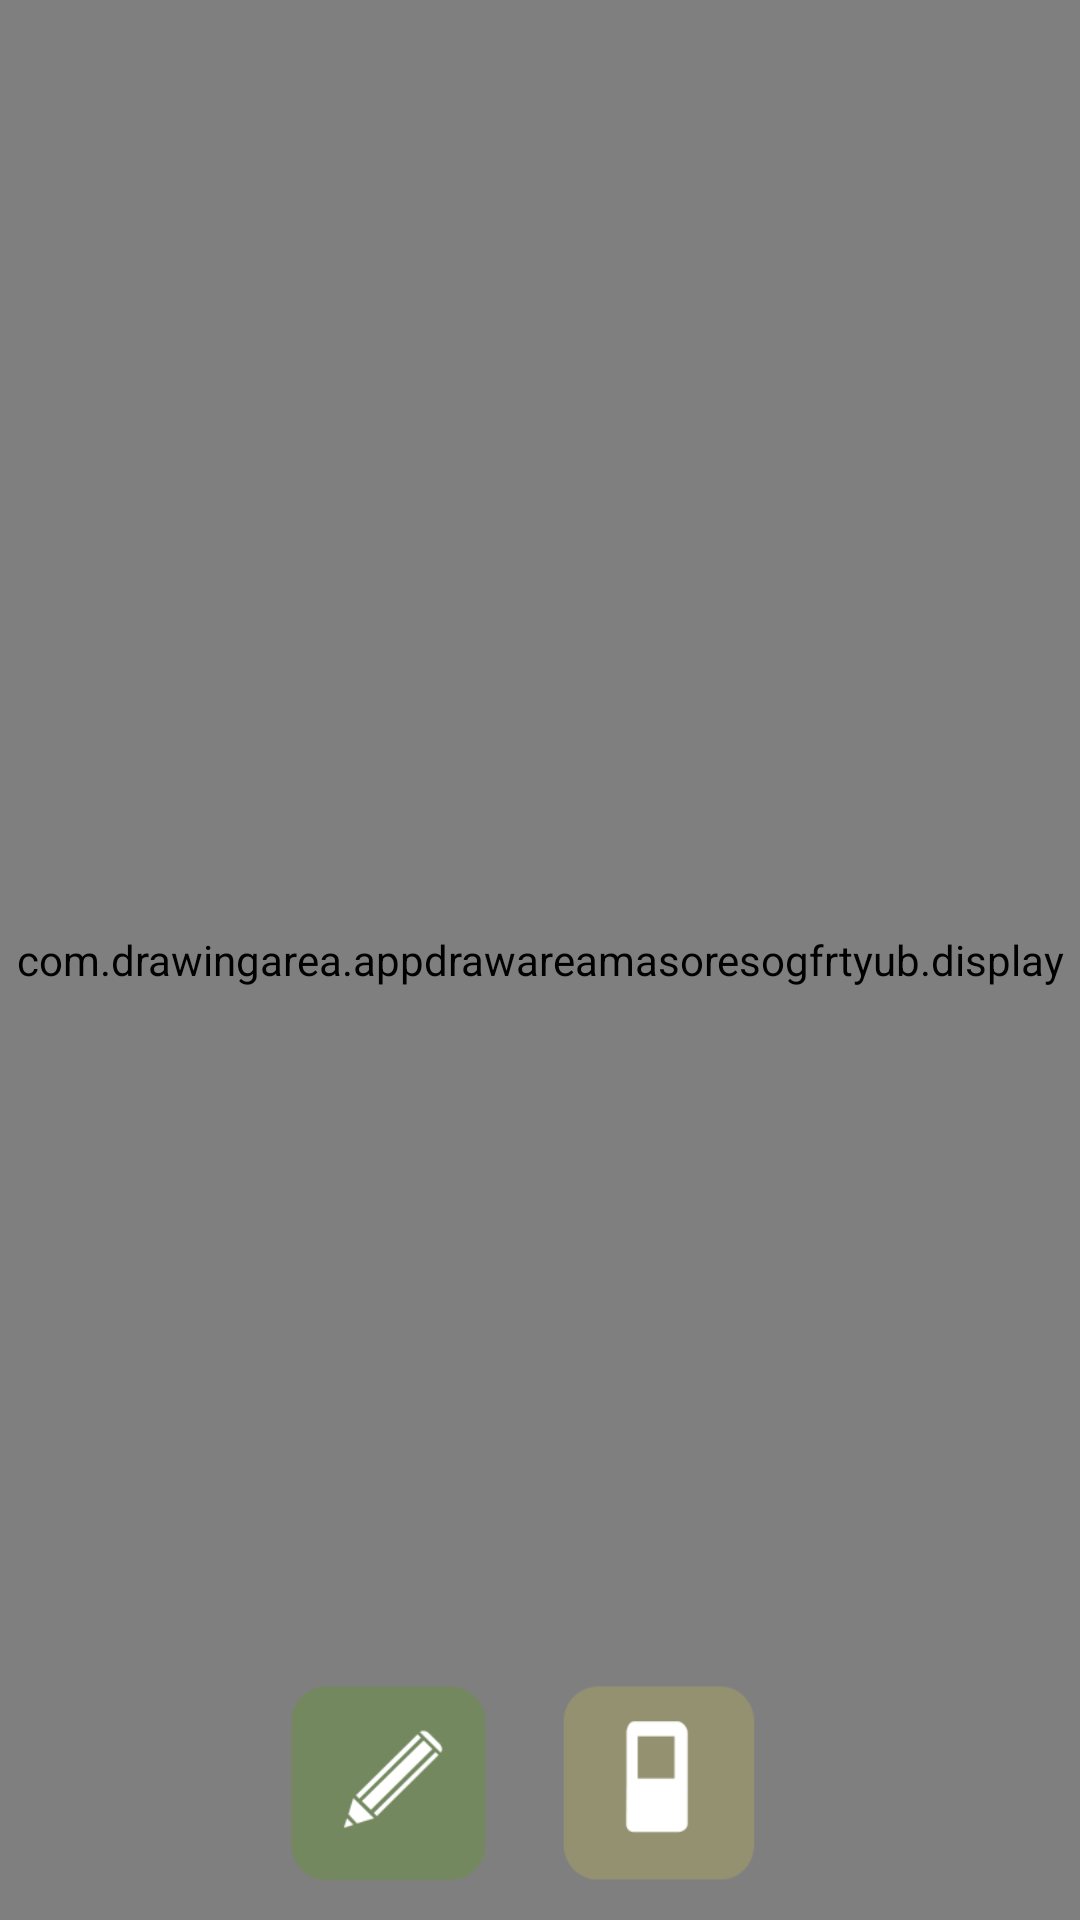

Icons on this 1080px×1920px Android screen, each with the point to tap as [x,y]:
eraser: [657,1777]
paint: [388,1783]
